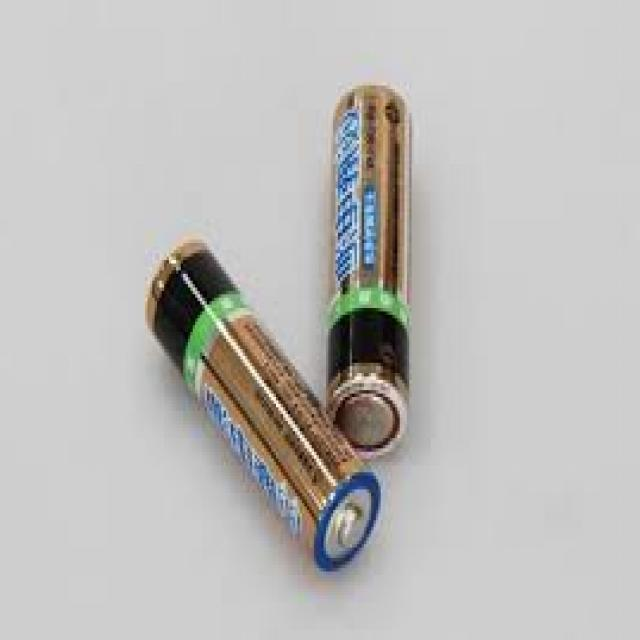battery: (138, 231, 381, 578), (322, 80, 410, 458)
